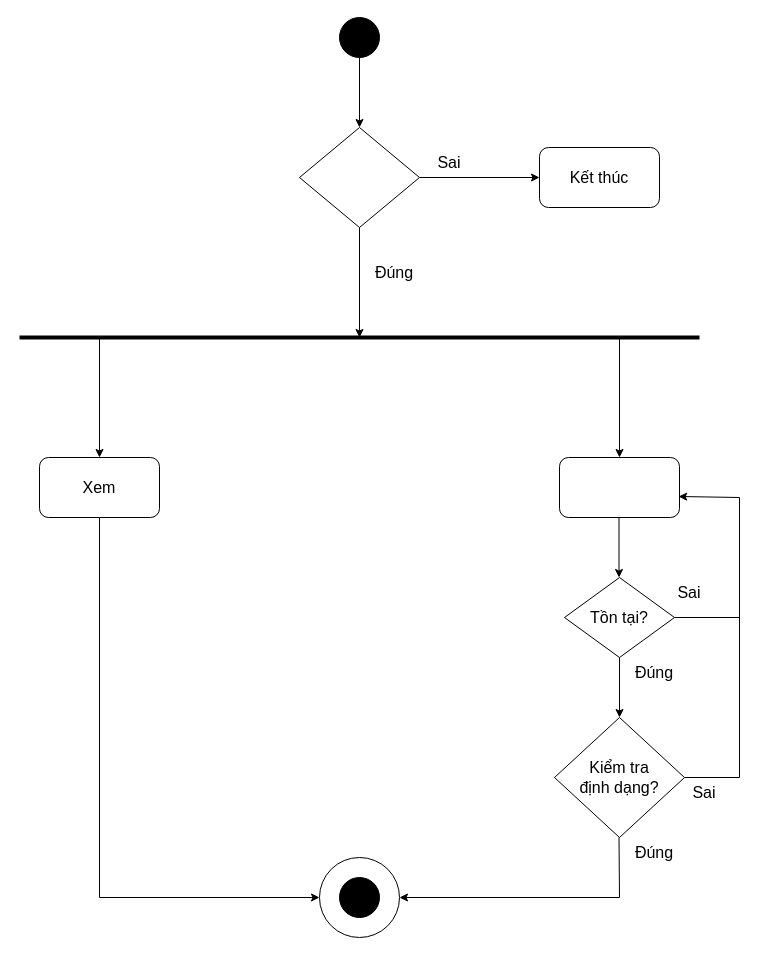
Image size: 765x955. Some labels were removed from this diagram. Here are the shapes that lost their labels. From the top down, the centre of each, then its label:
point 359,177: Kết nối?
point 619,487: Tìm
